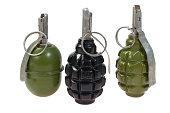Grenade: (64, 6, 109, 103), (113, 3, 155, 96), (18, 11, 62, 95)
